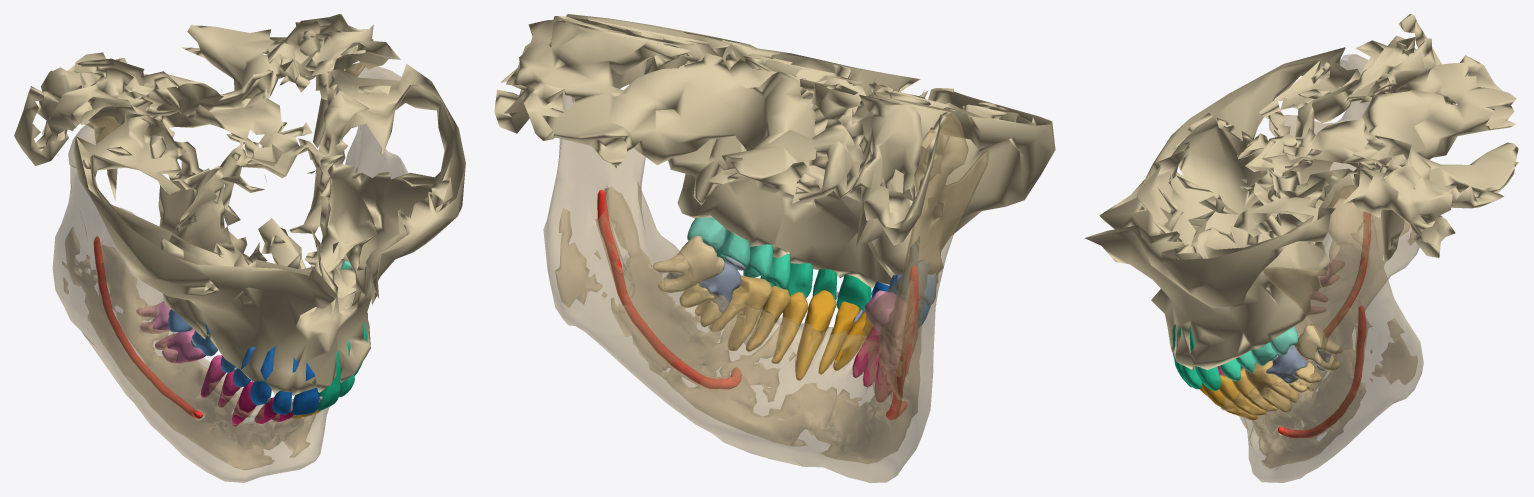
File: arch-mobile.b296f9b3.glb
The picture shows the model from 3 angles, left to right: view 1: azimuth 30°, elevation 25°; view 2: azimuth 150°, elevation 25°; view 3: azimuth 270°, elevation 25°; orthographic projection. The views are drawn at different scales.
Parts seen in each view (by area): view 1: maxilla, mandible, canal, tooth_47, tooth_48, tooth_13, tooth_11, tooth_21, tooth_43, tooth_45; view 2: maxilla, mandible, canal, tooth_38, tooth_36, tooth_33, tooth_48, lower_teeth_unnumbered, tooth_17, tooth_34, tooth_35, tooth_32 (+9 smaller); view 3: maxilla, mandible, canal, tooth_36, tooth_38, lower_teeth_unnumbered, tooth_34, tooth_35, tooth_37, tooth_33, tooth_23, tooth_27.
Part boxes in pixels (bbox=[...]): maxilla: bbox=[14, 14, 465, 395]; mandible: bbox=[52, 64, 407, 482]; canal: bbox=[94, 236, 202, 418]; tooth_47: bbox=[155, 328, 205, 363]; tooth_48: bbox=[136, 301, 170, 333]; tooth_13: bbox=[250, 346, 275, 405]; tooth_11: bbox=[292, 362, 318, 415]; tooth_21: bbox=[317, 350, 340, 410]; tooth_43: bbox=[232, 381, 256, 426]; tooth_45: bbox=[200, 355, 225, 397]; maxilla: bbox=[494, 14, 1055, 288]; mandible: bbox=[543, 24, 989, 482]; canal: bbox=[597, 189, 918, 419]; tooth_38: bbox=[653, 235, 724, 292]; tooth_36: bbox=[710, 275, 771, 350]; tooth_33: bbox=[795, 290, 835, 380]; tooth_48: bbox=[864, 290, 906, 350]; lower_teeth_unnumbered: bbox=[667, 261, 863, 323]; tooth_17: bbox=[894, 243, 936, 304]; tooth_34: bbox=[771, 292, 808, 363]; tooth_35: bbox=[746, 286, 790, 351]; tooth_32: bbox=[818, 301, 859, 373]; maxilla: bbox=[1084, 14, 1518, 369]; mandible: bbox=[1219, 54, 1423, 482]; canal: bbox=[1278, 212, 1370, 437]; tooth_36: bbox=[1245, 360, 1298, 412]; tooth_38: bbox=[1294, 323, 1342, 370]; lower_teeth_unnumbered: bbox=[1266, 345, 1330, 383]; tooth_34: bbox=[1219, 375, 1265, 415]; tooth_35: bbox=[1232, 368, 1278, 410]; tooth_37: bbox=[1288, 362, 1321, 392]; tooth_33: bbox=[1201, 383, 1257, 419]; tooth_23: bbox=[1189, 325, 1220, 390]; tooth_27: bbox=[1270, 326, 1298, 355].
Bounding box in the file's own units: 136 × 137 × 143.
